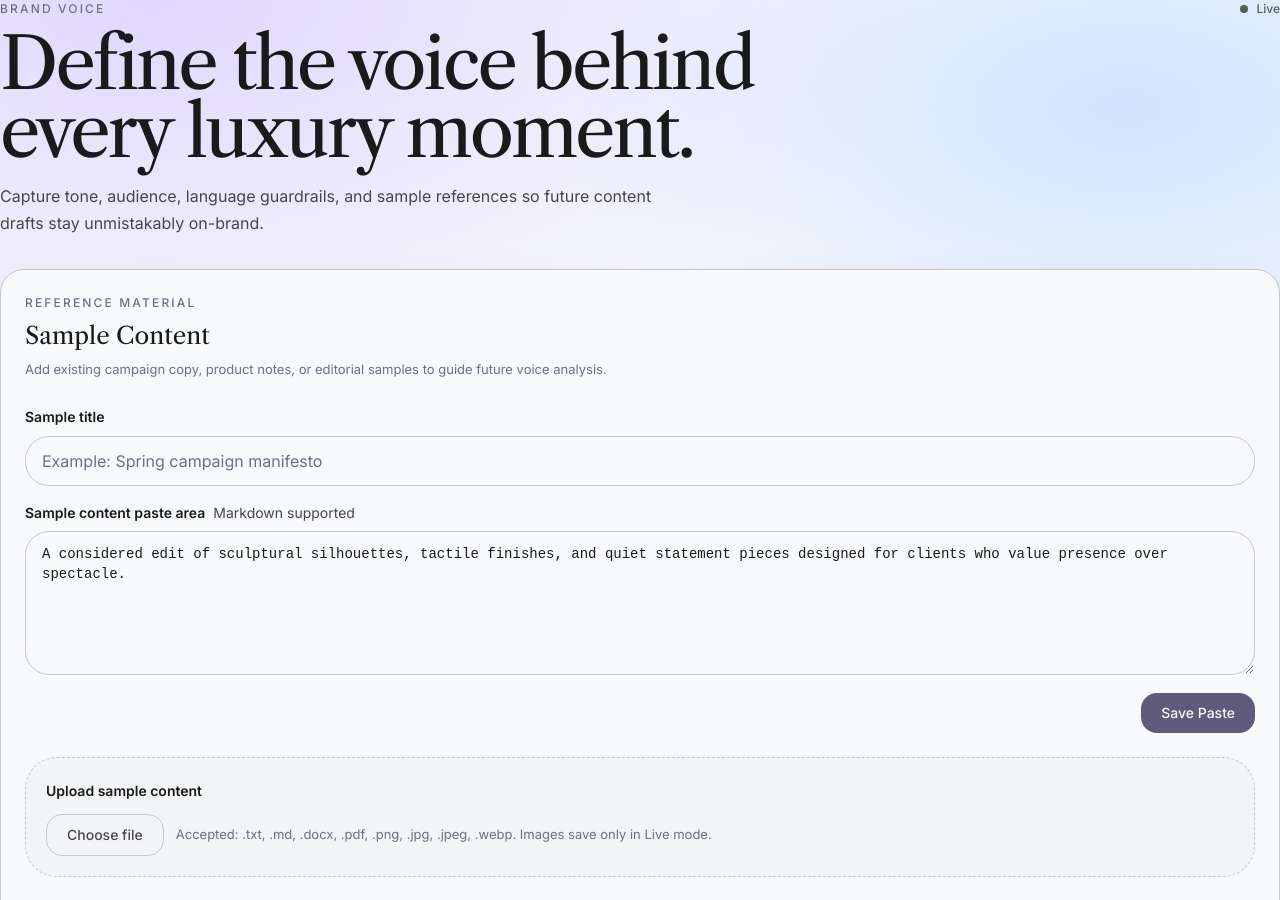
Test case: BrandVoiceSamplesShell › adds a saved live asset to the current sample list
Replace the text in the text box labelled "Sample content paste area" with "New live sample copy". click: x=640, y=603
box: [25,531,1255,675]
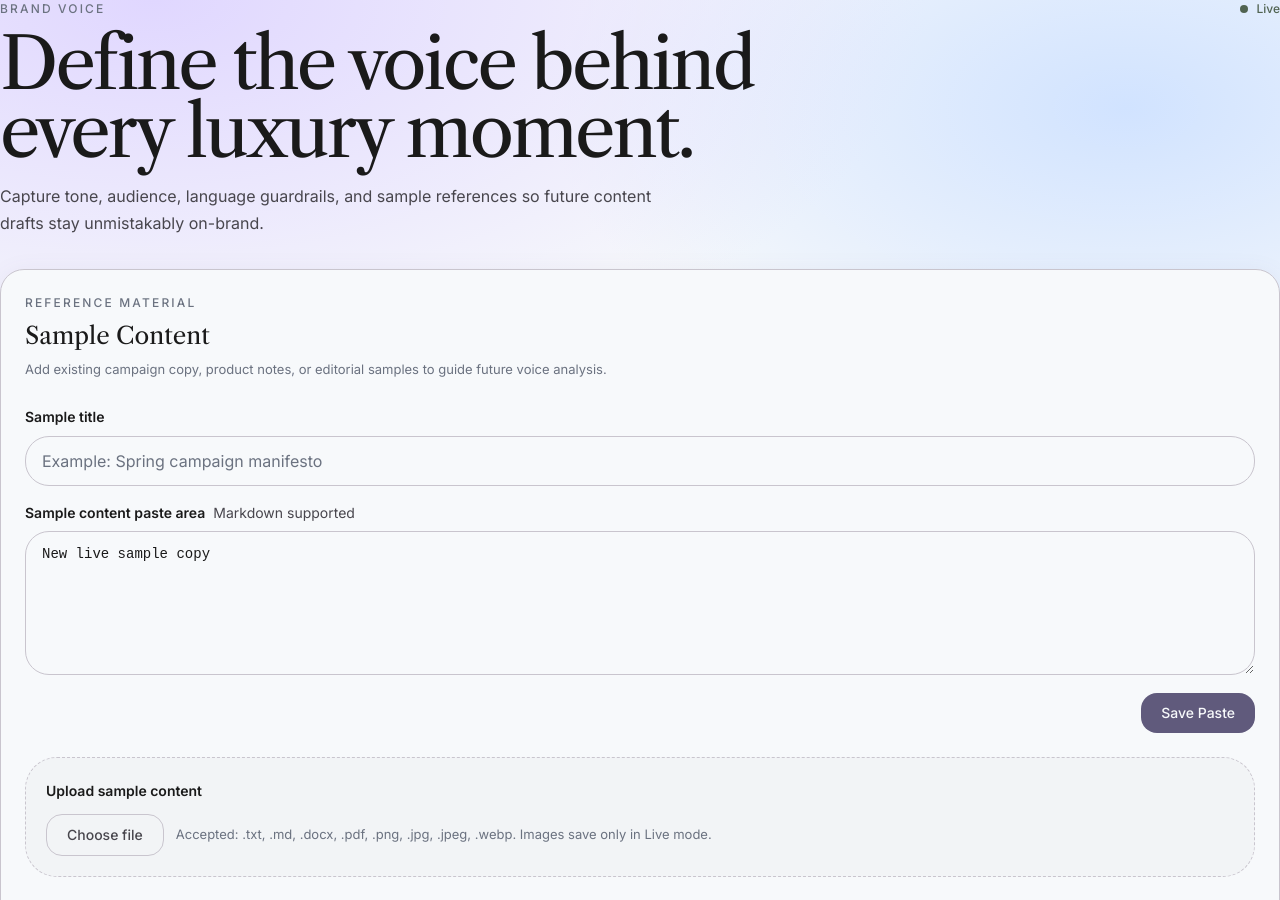
Click the button "Save Paste". click: x=1198, y=713
box: [1141,693,1255,733]
(page scrolled)
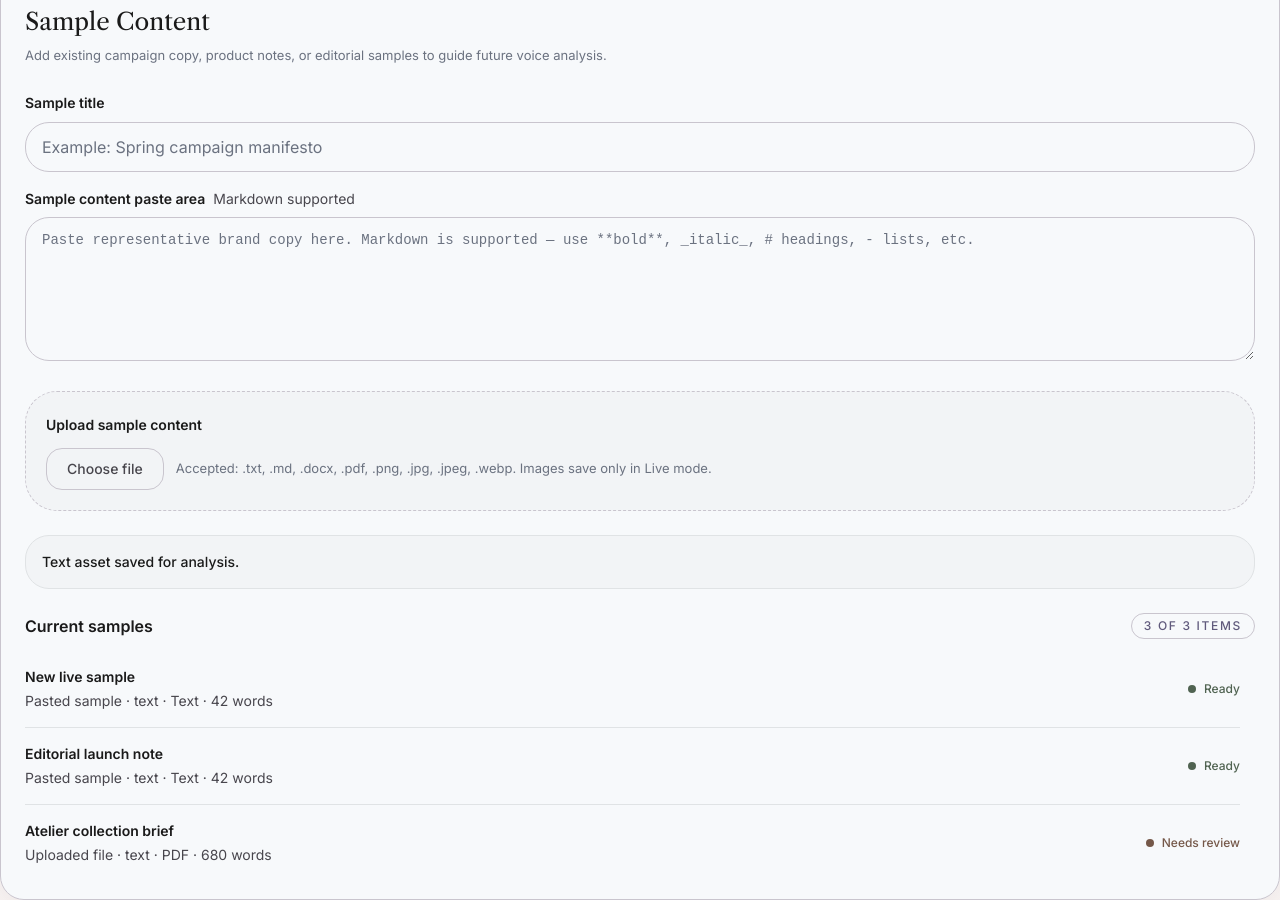
Check: the text "Text asset saved for analysis." is shown, box [25,535,1255,589]
Check: the text "New live sample" is shown, box [25,668,135,685]
